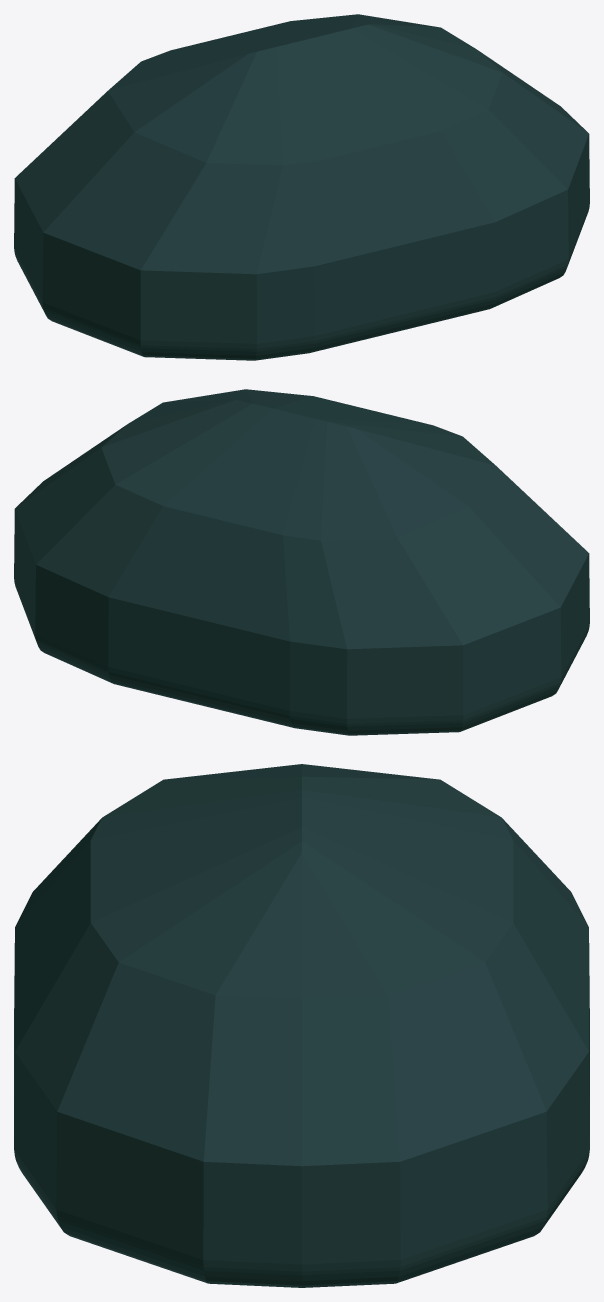
File: frog.FBX
3 views of the same model, one above another, from view 1: azimuth 30°, elevation 25°; view 2: azimuth 150°, elevation 25°; view 3: azimuth 270°, elevation 25° (orthographic). The views are drawn at different scales.
Parts seen in each view (by area): view 1: background; view 2: background; view 3: background.
Boxes of the visible parts, box(x1,y1,x2,y2) form: background: box(14, 14, 589, 360); background: box(14, 389, 589, 735); background: box(14, 764, 589, 1287).
Bounding box in the file's own units: 614 × 252 × 420.
